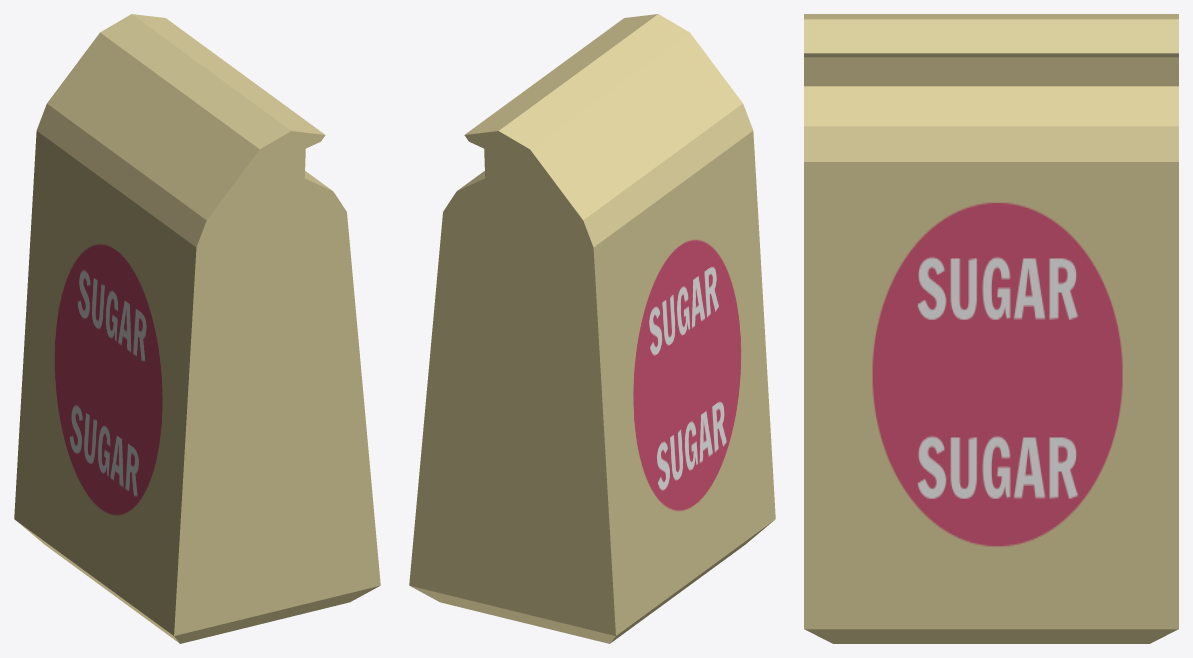
Rendered from PaperBag.obj.
The picture shows the model from 3 angles, left to right: view 1: azimuth 30°, elevation 25°; view 2: azimuth 150°, elevation 25°; view 3: azimuth 270°, elevation 25°; orthographic projection. The views are drawn at different scales.
Bounding box in the file's own units: 1.44 × 3.31 × 1.93.
Materials: 1 (1 with a texture image).
